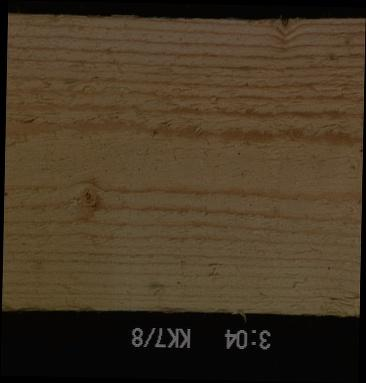edge_knot: (271, 14, 295, 39)
small_knot: (62, 178, 104, 224)
